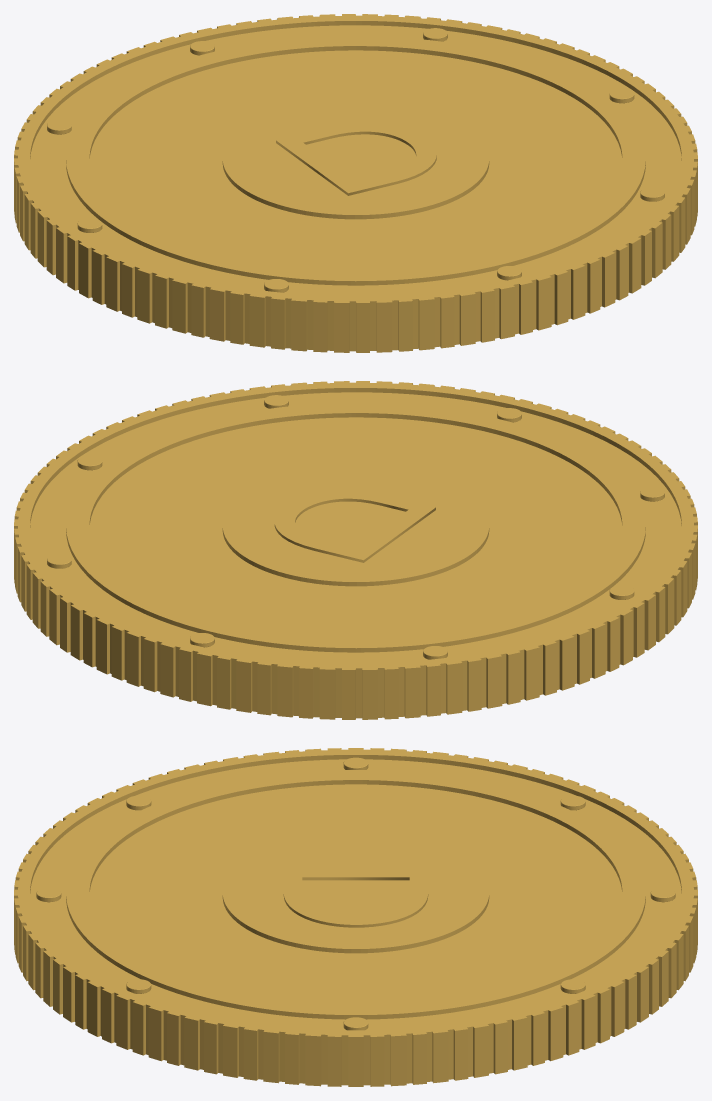
3 renders of one model, top to bottom at view 1: azimuth 30°, elevation 25°; view 2: azimuth 150°, elevation 25°; view 3: azimuth 270°, elevation 25°, orthographic.
Visible parts, largest first — view 1: Círculo.003, Texto; view 2: Círculo.003, Texto; view 3: Círculo.003, Texto.
Part boxes in pixels (box(x1,y1,x2,y2)): Círculo.003: box(14, 14, 697, 352); Texto: box(276, 123, 436, 195); Círculo.003: box(14, 381, 697, 719); Texto: box(274, 490, 435, 562); Círculo.003: box(14, 748, 697, 1086); Texto: box(283, 868, 428, 927).
Bounding box in the file's own units: 2.02 × 0.1706 × 2.02.
